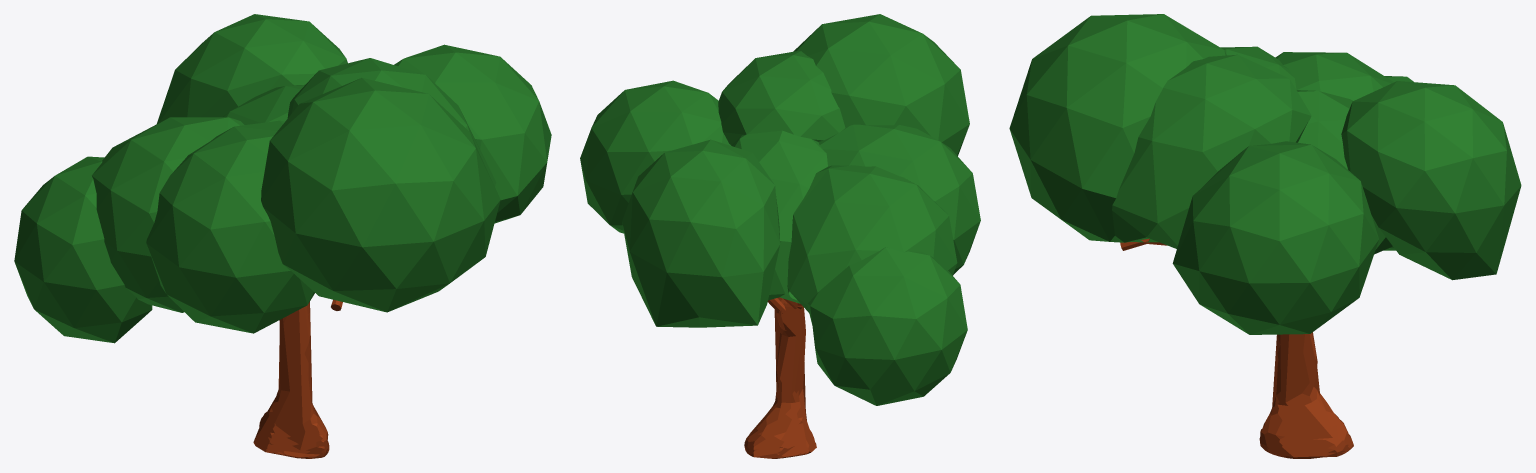
File: Tree.fbx
3 views of the same model, side by side, from view 1: azimuth 30°, elevation 25°; view 2: azimuth 150°, elevation 25°; view 3: azimuth 270°, elevation 25° (orthographic). The views are drawn at different scales.
Parts seen in each view (by area): view 1: Tree; view 2: Tree; view 3: Tree.
Boxes of the visible parts, x1,y1,x2,y2 form: Tree: [14, 14, 551, 458]; Tree: [580, 14, 980, 458]; Tree: [1009, 14, 1521, 458].
Bounding box in the file's own units: 537 × 471 × 519.
